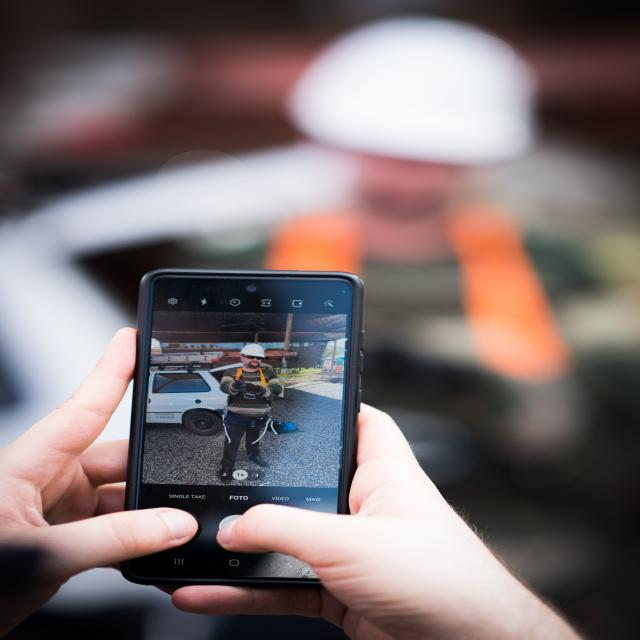botas: (244, 452, 272, 469)
capacete: (238, 343, 269, 359)
corda de vida: (222, 364, 268, 446)
